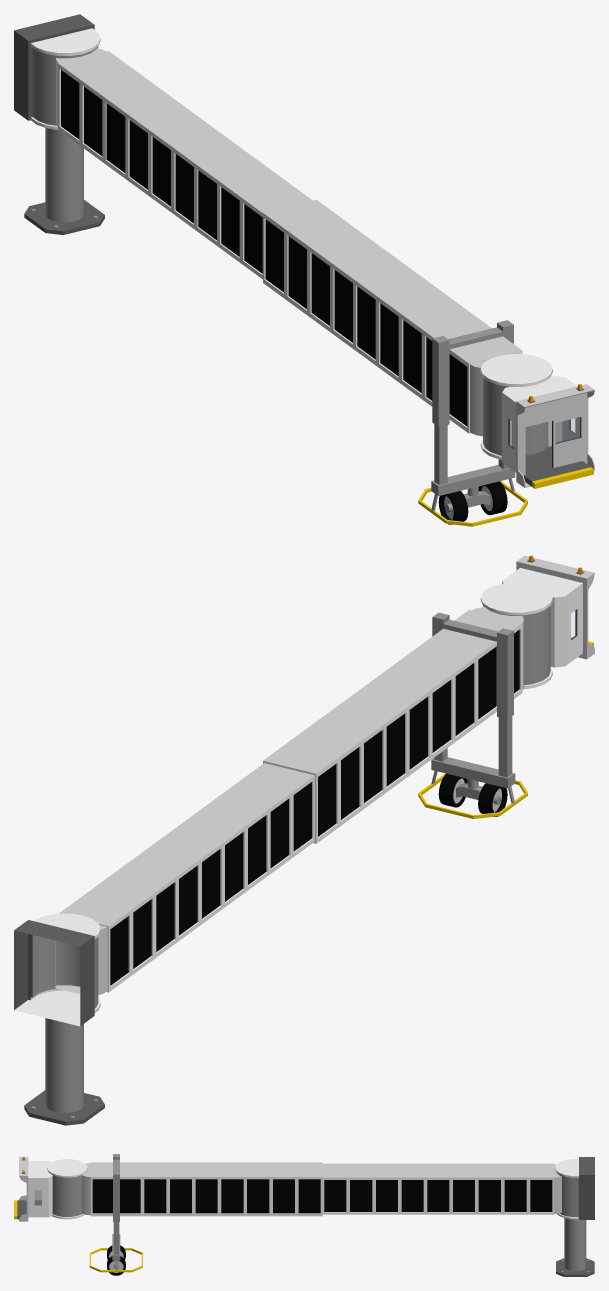
The model's file is Passenger Boarding Bridge.fbx.
3 renders of one model, top to bottom at view 1: azimuth 30°, elevation 25°; view 2: azimuth 150°, elevation 25°; view 3: azimuth 270°, elevation 25°, orthographic. The views are drawn at different scales.
Parts seen in each view (by area): view 1: PBB_Tunnel_2, PBB_Tunnel_1, PBB_Rotunda, PBB_Cabin, PBB_Elevation_System, PBB_Wheels; view 2: PBB_Tunnel_2, PBB_Tunnel_1, PBB_Rotunda, PBB_Cabin, PBB_Elevation_System, PBB_Wheels; view 3: PBB_Tunnel_2, PBB_Tunnel_1, PBB_Rotunda, PBB_Cabin, PBB_Elevation_System, PBB_Wheels.
Part boxes in pixels (x1=…): PBB_Tunnel_2: x1=263, y1=199, x2=552, y2=459; PBB_Tunnel_1: x1=56, y1=48, x2=312, y2=279; PBB_Rotunda: x1=14, y1=14, x2=104, y2=234; PBB_Cabin: x1=502, y1=376, x2=594, y2=488; PBB_Elevation_System: x1=418, y1=424, x2=527, y2=526; PBB_Wheels: x1=438, y1=481, x2=507, y2=524; PBB_Tunnel_2: x1=263, y1=582, x2=552, y2=843; PBB_Tunnel_1: x1=55, y1=763, x2=314, y2=995; PBB_Rotunda: x1=14, y1=913, x2=104, y2=1125; PBB_Cabin: x1=502, y1=555, x2=594, y2=667; PBB_Elevation_System: x1=418, y1=716, x2=527, y2=818; PBB_Wheels: x1=438, y1=773, x2=507, y2=816; PBB_Tunnel_2: x1=47, y1=1154, x2=322, y2=1221; PBB_Tunnel_1: x1=322, y1=1163, x2=561, y2=1214; PBB_Rotunda: x1=555, y1=1157, x2=594, y2=1276; PBB_Cabin: x1=14, y1=1156, x2=52, y2=1221; PBB_Elevation_System: x1=89, y1=1222, x2=142, y2=1272; PBB_Wheels: x1=107, y1=1245, x2=125, y2=1275.
Size of the model in its own units: 368 by 801 by 4013.
2 materials, 2 textured.
